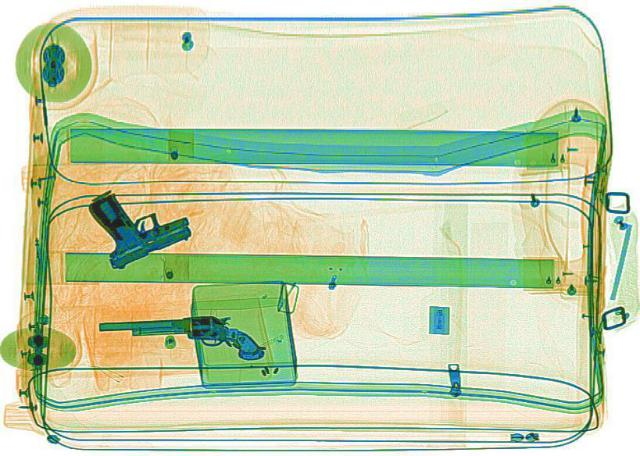Gun: (58, 176, 202, 268), (97, 308, 266, 365)
